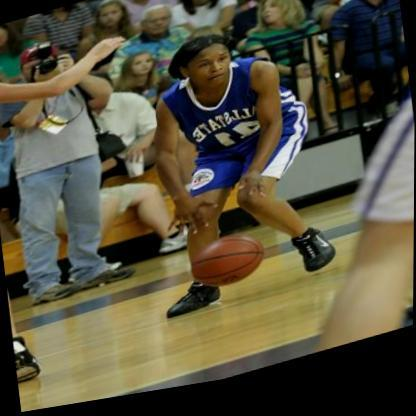basketball: (187, 236, 266, 306)
